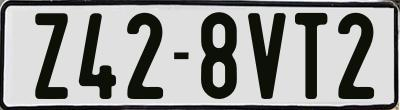2: (126, 12, 166, 100), (335, 13, 374, 103)
4: (78, 12, 115, 101)
8: (199, 11, 236, 102)
T: (294, 11, 332, 97)
V: (246, 12, 290, 99)
Z: (35, 12, 74, 99)
